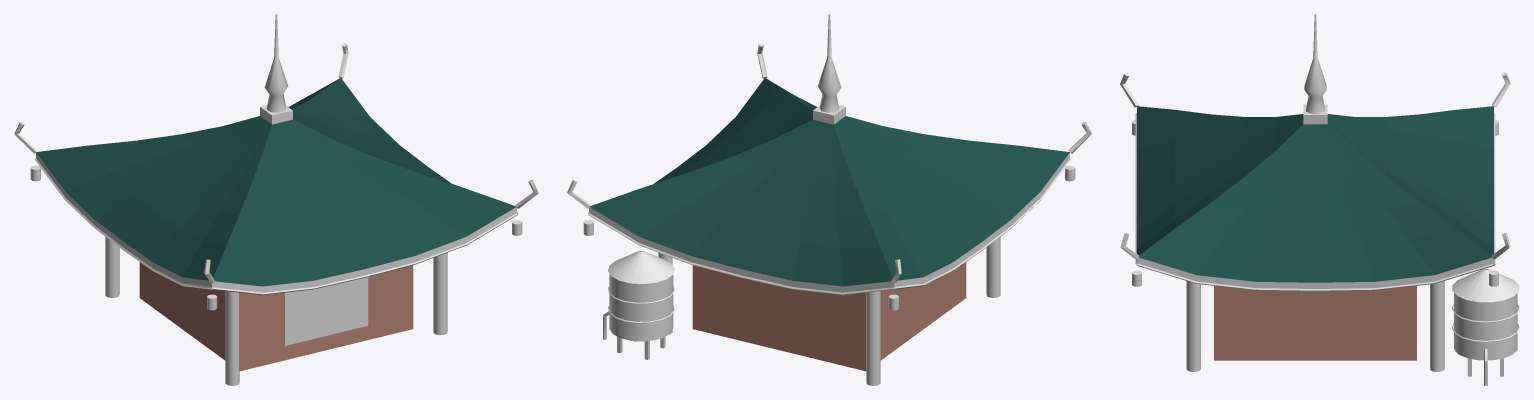
File: LMM_Roof_NM_Pagoda.fbx
3 views of the same model, side by side, from view 1: azimuth 30°, elevation 25°; view 2: azimuth 150°, elevation 25°; view 3: azimuth 270°, elevation 25° (orthographic).
Visible parts, largest first — view 1: LMM_Roof_NM_Pagoda_LOD0; view 2: LMM_Roof_NM_Pagoda_LOD0; view 3: LMM_Roof_NM_Pagoda_LOD0.
Part boxes in pixels (x1,y1,x2,y2): LMM_Roof_NM_Pagoda_LOD0: [14, 14, 538, 385]; LMM_Roof_NM_Pagoda_LOD0: [567, 14, 1091, 385]; LMM_Roof_NM_Pagoda_LOD0: [1120, 14, 1519, 385].
Size of what is drawn, in the model's own units: 9.64 by 8.25 by 9.86.
